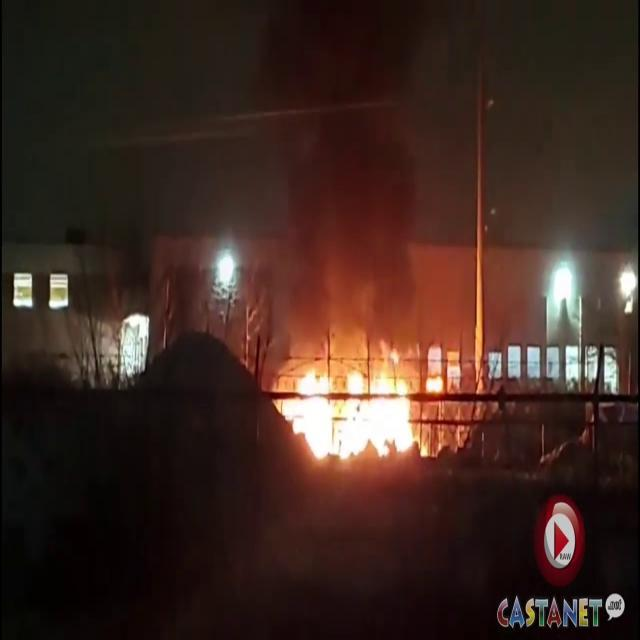Fire: (278, 348, 432, 472)
Smoke: (232, 0, 490, 339)
